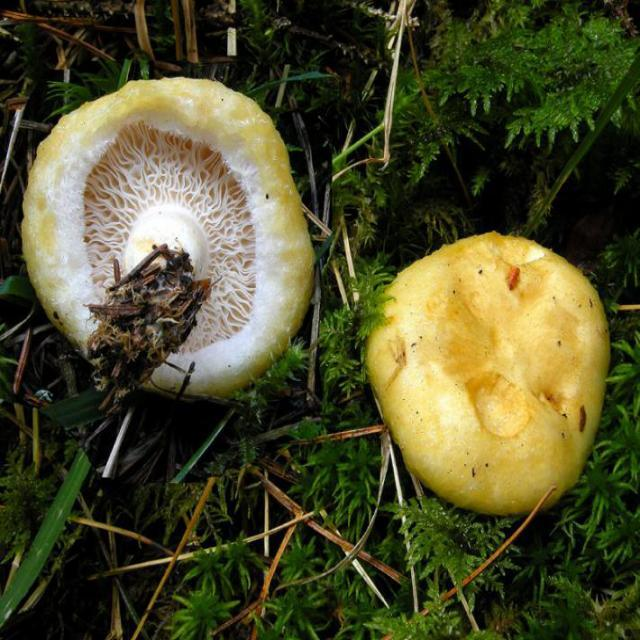Armillaria mellea: (24, 78, 315, 390), (367, 234, 608, 517)
